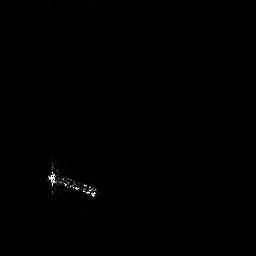ship: (45, 156, 103, 202)
